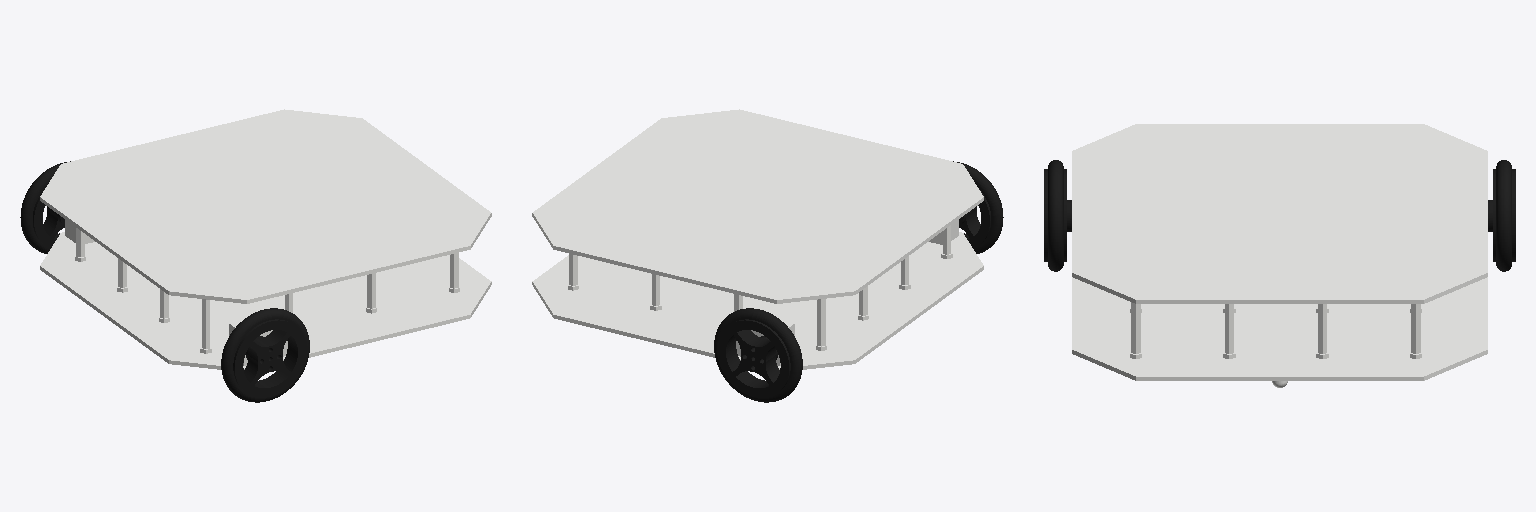
robot.urdf — testbot:
<?xml version="1.0"?>
<!-- Flat URDF, regenerated from urdf/testbot.urdf.xacro (use_sim:=false).
     MANUAL EDIT (not from fusion2URDF): regenerated after the axis,
     joint-limit, collision and ros2_control fixes. Do not edit by hand -
     edit the xacro and re-run:
       xacro urdf/testbot.urdf.xacro > urdf/testbot.urdf
-->
<!-- =================================================================================== -->
<!-- |    This document was autogenerated by xacro from src/testbot_description/urdf/testbot.urdf.xacro | -->
<!-- |    EDITING THIS FILE BY HAND IS NOT RECOMMENDED                                 | -->
<!-- =================================================================================== -->
<!--
  Top-level entry point for the testbot description.

    xacro urdf/testbot.urdf.xacro                  -> mock hardware
    xacro urdf/testbot.urdf.xacro use_sim:=true    -> Gazebo hardware + sensors

  Generated by fusion2URDF v3.1.1; the use_sim argument and the three
  extra includes below are MANUAL EDITS (not from fusion2URDF).
-->
<robot name="testbot">
  <!-- Materials (shared across all assemblies) -->
  <material name="ABS_Plastic">
    <color rgba="0.965 0.965 0.953 1.0"/>
  </material>
  <material name="Rubber_Black">
    <color rgba="0.153 0.153 0.153 1.0"/>
  </material>
  <!-- Links -->
  <link name="base_link">
    <inertial>
      <origin rpy="0 0 0" xyz="-0.006374 -0.000113 0.026555"/>
      <mass value="0.480795"/>
      <inertia ixx="3.173460e-03" ixy="3.454263e-07" ixz="-2.969094e-05" iyy="2.788824e-03" iyz="5.819429e-09" izz="5.353183e-03"/>
    </inertial>
    <visual>
      <origin rpy="0.000000 0.000000 0.000000" xyz="0.000000 0.000000 0.000000"/>
      <geometry>
        <mesh filename="package://testbot_description/meshes/testbot/base_link.dae" scale="1 1 1"/>
      </geometry>
      <material name="ABS_Plastic"/>
    </visual>
    <!-- MANUAL EDIT (not from fusion2URDF) ==========================
           Was: collision reused the base_link.dae visual mesh.
           A concave triangle soup is slow and unreliable in ODE, so the
           chassis is replaced by its bounding box and the merged caster
           by an explicit sphere.

           The chassis plates span x,y = +/-0.13 and z = 0 .. 0.056.
           The box is therefore a true bounding volume; the four corners
           of the real plate are chamfered (corner vertices sit at
           (+/-0.13, +/-0.09)), so the box is very slightly conservative.
           ============================================================ -->
    <collision name="chassis_collision">
      <origin rpy="0 0 0" xyz="0 0 0.028"/>
      <geometry>
        <box size="0.26 0.26 0.056"/>
      </geometry>
    </collision>
    <!-- MANUAL EDIT (not from fusion2URDF) ==========================
           CAD-vs-sim adjustment, deliberate mismatch with the mesh:

           In the CAD the caster sphere sits at z = -0.018 with its bottom
           at z = -0.023, which is 3.5 mm BELOW the wheel bottom
           (z = -0.0195). Modelled faithfully, the robot would rest on the
           caster with its nose pitched down and the drive wheels barely
           loaded, so it would not drive straight.

           The collision sphere is therefore raised 3.5 mm, to centre
           z = -0.0145, putting its bottom exactly level with the wheels
           at z = -0.0195. The VISUAL mesh is untouched, so the render
           still shows the true CAD.
           ============================================================ -->
    <collision name="caster_collision">
      <origin rpy="0 0 0" xyz="0.09 0 -0.014499999999999999"/>
      <geometry>
        <sphere radius="0.005"/>
      </geometry>
    </collision>
  </link>
  <link name="backward_left_wheel">
    <inertial>
      <origin rpy="0 0 0" xyz="-0.000000 0.000000 0.010783"/>
      <mass value="0.033729"/>
      <inertia ixx="1.081155e-05" ixy="-1.107598e-09" ixz="0.000000e+00" iyy="1.076694e-05" iyz="0.000000e+00" izz="2.045865e-05"/>
    </inertial>
    <visual>
      <origin rpy="1.570796 0.000000 0.000000" xyz="0.000000 0.000000 0.015200"/>
      <geometry>
        <mesh filename="package://testbot_description/meshes/testbot/backward_left_wheel.dae" scale="1 1 1"/>
      </geometry>
      <material name="Rubber_Black"/>
    </visual>
    <!-- MANUAL EDIT (not from fusion2URDF) ==========================
           Was: collision reused backward_left_wheel.dae.
           A 3982-vertex tyre mesh gives ODE a ragged contact patch and
           makes the robot buzz on the spot. Replaced by the exact
           enclosing cylinder: the link's +z IS the joint axis, so the
           cylinder needs no rotation, only a half-width offset.
           ============================================================ -->
    <collision name="backward_left_wheel_collision">
      <origin rpy="0 0 0" xyz="0 0 0.0091"/>
      <geometry>
        <cylinder length="0.0182" radius="0.035"/>
      </geometry>
    </collision>
  </link>
  <link name="Backward_Right_wheel">
    <inertial>
      <origin rpy="0 0 0" xyz="-0.000000 0.000000 0.010783"/>
      <mass value="0.033729"/>
      <inertia ixx="1.081155e-05" ixy="1.107598e-09" ixz="0.000000e+00" iyy="1.076694e-05" iyz="0.000000e+00" izz="2.045865e-05"/>
    </inertial>
    <visual>
      <origin rpy="1.570796 0.000000 0.000000" xyz="0.000000 0.000000 0.015200"/>
      <geometry>
        <mesh filename="package://testbot_description/meshes/testbot/Backward_Right_wheel.dae" scale="1 1 1"/>
      </geometry>
      <material name="Rubber_Black"/>
    </visual>
    <!-- MANUAL EDIT (not from fusion2URDF): see left wheel. -->
    <collision name="Backward_Right_wheel_collision">
      <origin rpy="0 0 0" xyz="0 0 0.0091"/>
      <geometry>
        <cylinder length="0.0182" radius="0.035"/>
      </geometry>
    </collision>
  </link>
  <!-- Joints (internal to assembly) -->
  <joint name="Revolute_2" type="continuous">
    <parent link="base_link"/>
    <child link="backward_left_wheel"/>
    <origin rpy="-1.570796 0.000000 0.000000" xyz="-0.081000 0.129000 0.015500"/>
    <axis xyz="0.000000 0.000000 1.000000"/>
    <!-- MANUAL EDIT (not from fusion2URDF) ==========================
           Was: <limit effort="100.0" velocity="1.00"/>
           1 rad/s x r=0.035 m is 0.035 m/s, i.e. the robot could not
           reach even a slow walking pace and diff_drive_controller
           saturated immediately. 30 rad/s gives 1.05 m/s top speed.
           100 N.m on a 34 g wheel was meaningless; 1.5 N.m is a
           plausible stall torque for a small geared hobby motor.
           ============================================================ -->
    <limit effort="1.5" velocity="30.0"/>
    <dynamics damping="0.001" friction="0.001"/>
  </joint>
  <joint name="Revolute_4" type="continuous">
    <parent link="base_link"/>
    <child link="Backward_Right_wheel"/>
    <origin rpy="1.570796 0.000000 0.000000" xyz="-0.081000 -0.129000 0.015500"/>
    <!-- MANUAL EDIT (not from fusion2URDF) ==========================
           Was: <axis xyz="0 0 1"/>   THE MIRRORED-WHEEL BUG.

           The exporter gives each continuous joint its own local +z as
           the rotation axis. The left wheel's origin rpy is (-pi/2,0,0),
           so its +z maps to +y in base_link. This wheel's origin rpy is
           (+pi/2,0,0), so its +z maps to -y. The two wheels therefore
           turned OPPOSITE ways for the same command: a forward Twist
           made the robot spin on the spot instead of driving straight.

           Flipping this axis to -z makes it +y in base_link, matching
           the left wheel, so equal positive commands now roll the robot
           forward and /joint_states shows both wheel velocities with
           the same sign.

           PREFERRED FIX (survives a re-export, not applied here):
           set Backward_Right_wheel to rule=world_rpy with
           post_roll_deg=-90 in config/frame_overrides.csv and run
           fusion2URDF tools/reframe.py. That needs debug/frame_model.json
           from a Fusion export with include_debug=true, which this
           package does not ship, so the axis flip is used instead.
           The CSV has been set up so a future reframe does it properly.
           ============================================================ -->
    <axis xyz="0.000000 0.000000 -1.000000"/>
    <!-- MANUAL EDIT (not from fusion2URDF): see left wheel. -->
    <limit effort="1.5" velocity="30.0"/>
    <dynamics damping="0.001" friction="0.001"/>
  </joint>
  <!-- MANUAL EDIT (not from fusion2URDF) ============================
         The generated <ros2_control> block lived here and hard-coded
         mock_components/GenericSystem, so there was no Gazebo hardware.
         It has moved to urdf/testbot.ros2_control.xacro, where a
         `use_sim` argument switches between GazeboSystem and mock.
         ============================================================== -->
  <ros2_control name="testbot_system" type="system">
    <hardware>
      <plugin>mock_components/GenericSystem</plugin>
      <!-- Integrate the velocity command into the position state so the
               mock hardware behaves like a real wheel when there is no
               physics engine. -->
      <param name="calculate_dynamics">true</param>
    </hardware>
    <joint name="Revolute_2">
      <command_interface name="velocity">
        <param name="min">-30.0</param>
        <param name="max">30.0</param>
      </command_interface>
      <state_interface name="position">
        <param name="initial_value">0.0</param>
      </state_interface>
      <state_interface name="velocity"/>
    </joint>
    <joint name="Revolute_4">
      <command_interface name="velocity">
        <param name="min">-30.0</param>
        <param name="max">30.0</param>
      </command_interface>
      <state_interface name="position">
        <param name="initial_value">0.0</param>
      </state_interface>
      <state_interface name="velocity"/>
    </joint>
  </ros2_control>
</robot>

--- Render facts (derived) ---
The picture shows the robot from 3 angles, left to right: view 1: azimuth 30°, elevation 25°; view 2: azimuth 150°, elevation 25°; view 3: azimuth 270°, elevation 25°; orthographic projection.
Robot: testbot — 3 links, 2 joints (2 continuous); root link base_link; default pose: every joint at zero.
Links seen in each view (by area): view 1: base_link, Backward_Right_wheel, backward_left_wheel; view 2: base_link, backward_left_wheel, Backward_Right_wheel; view 3: base_link, backward_left_wheel, Backward_Right_wheel.
Boxes of the visible links, x1,y1,x2,y2 form: base_link: [40, 109, 491, 369]; Backward_Right_wheel: [221, 308, 309, 402]; backward_left_wheel: [20, 161, 70, 253]; base_link: [532, 109, 983, 369]; backward_left_wheel: [714, 308, 802, 402]; Backward_Right_wheel: [953, 161, 1003, 253]; base_link: [1072, 124, 1487, 387]; backward_left_wheel: [1488, 160, 1515, 271]; Backward_Right_wheel: [1044, 160, 1071, 271].
Size in the robot's own frame: 0.26 by 0.2944 by 0.079 metres.
3 mesh visuals loaded from 3 distinct referenced files (3 Collada DAE).
